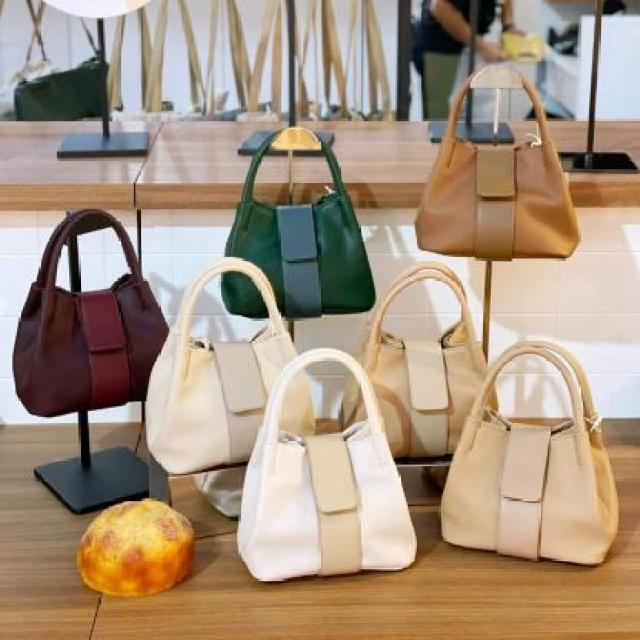Bag: (418, 314, 640, 583), (218, 330, 436, 584), (392, 40, 599, 282), (181, 106, 401, 328), (8, 191, 178, 429)
